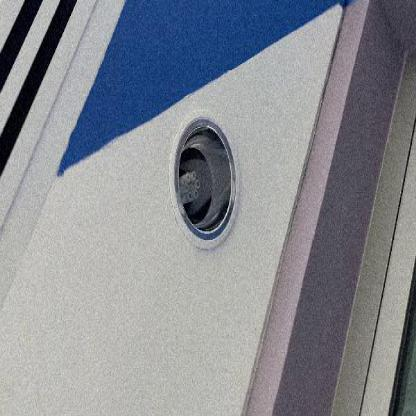light_off: (157, 84, 253, 260)
